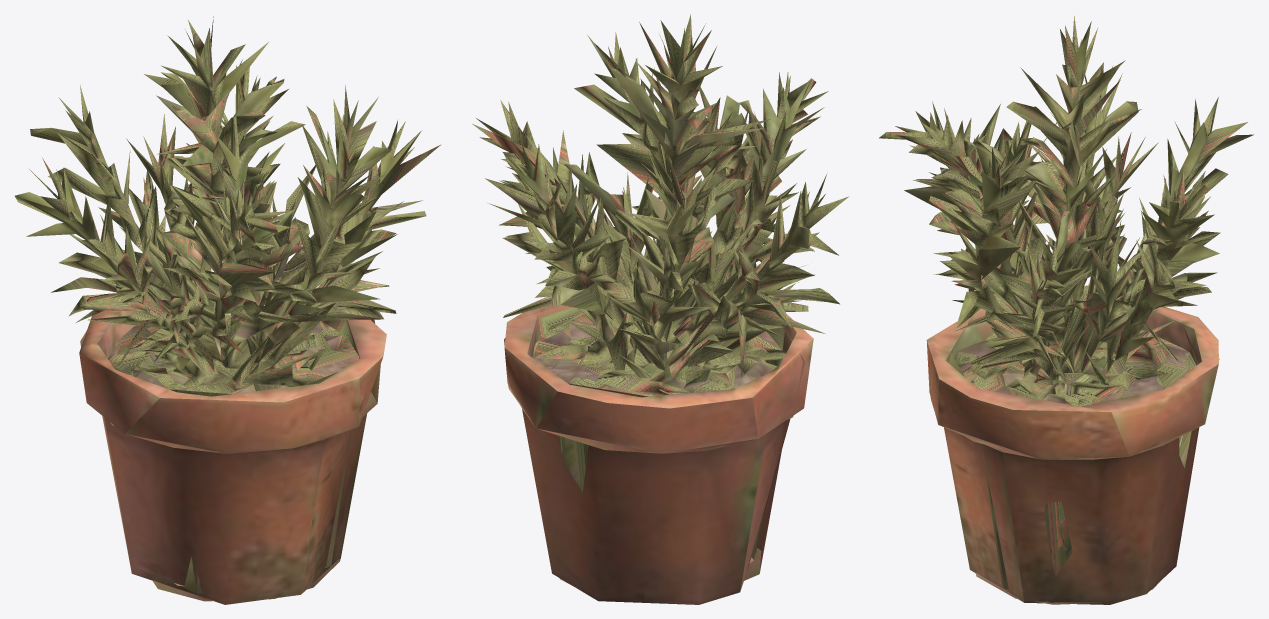
3 renders of one model, left to right at view 1: azimuth 30°, elevation 25°; view 2: azimuth 150°, elevation 25°; view 3: azimuth 270°, elevation 25°, orthographic. The views are drawn at different scales.
Parts seen in each view (by area): view 1: geometry_0; view 2: geometry_0; view 3: geometry_0.
Boxes of the visible parts, box(x1,y1,x2,y2) form: geometry_0: box(15, 16, 441, 604); geometry_0: box(472, 14, 848, 604); geometry_0: box(879, 16, 1253, 604).
Size of the model in its own units: 0.2804 by 0.3795 by 0.2429.
Materials: 1 (1 with a texture image).
